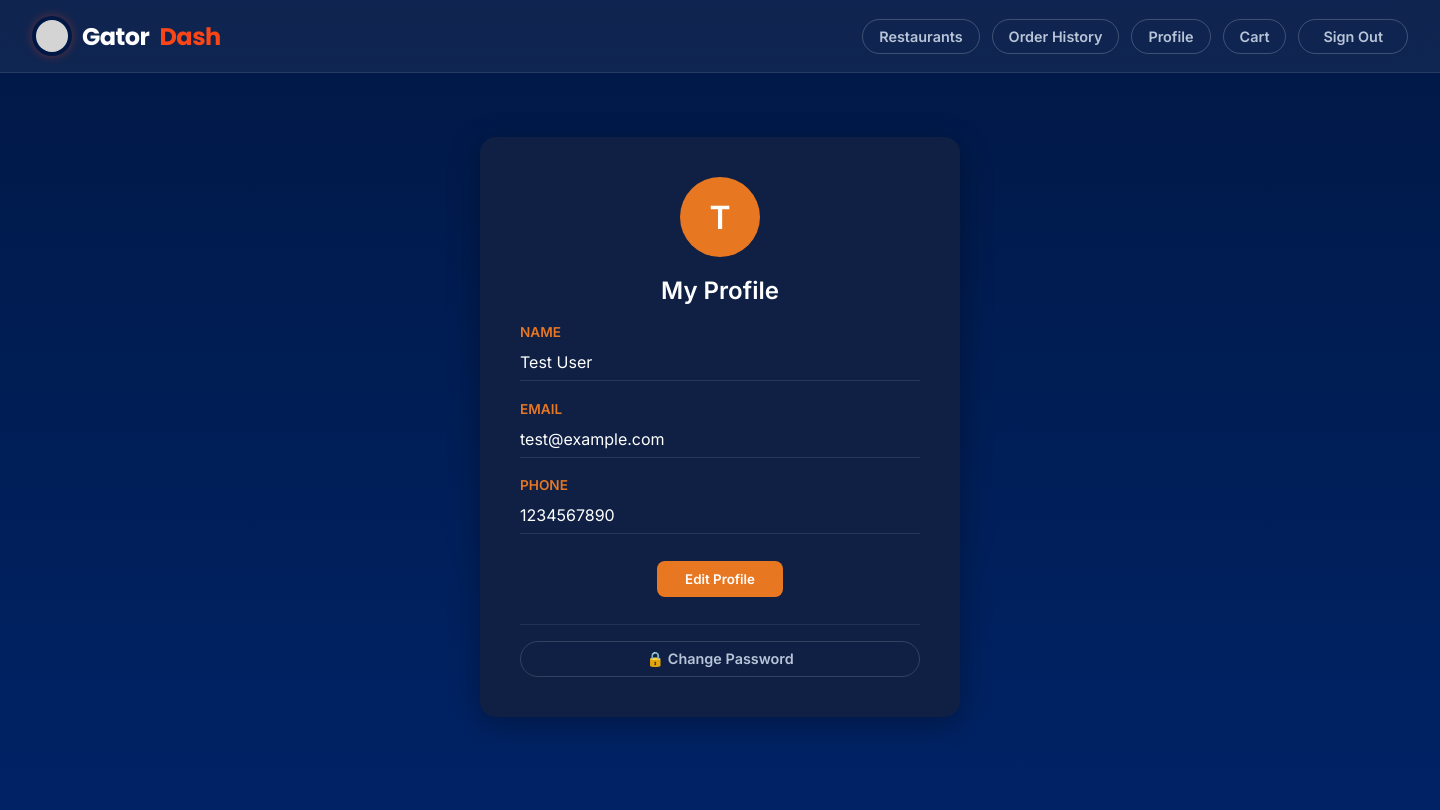
Scenario: Profile Component › edit mode shows input fields with current values
This screenshot has width=1440, height=810.
Click the button "Edit Profile" at (720, 579), box 657,561 -> 783,597
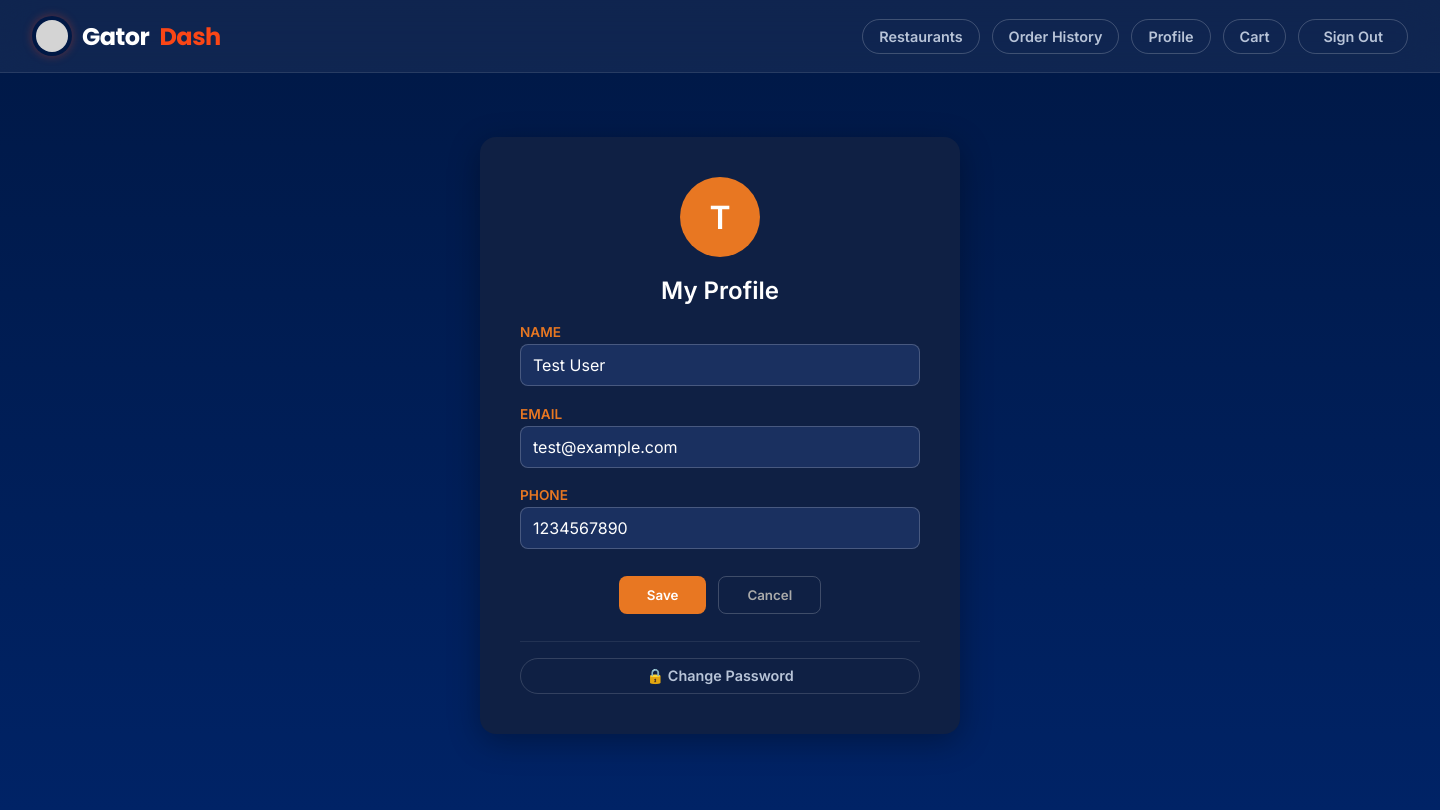
Now the field below "Name" is shown, box 520,344 -> 920,386
Now the button "Save" is shown, box 619,576 -> 706,614
Now the button "Cancel" is shown, box 718,576 -> 821,614
